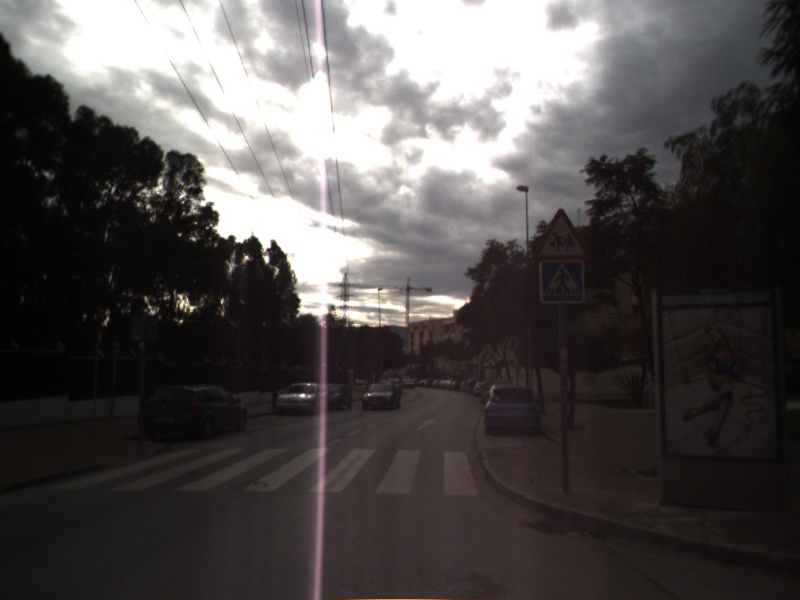STRAIGHT: (414, 416, 440, 432)
